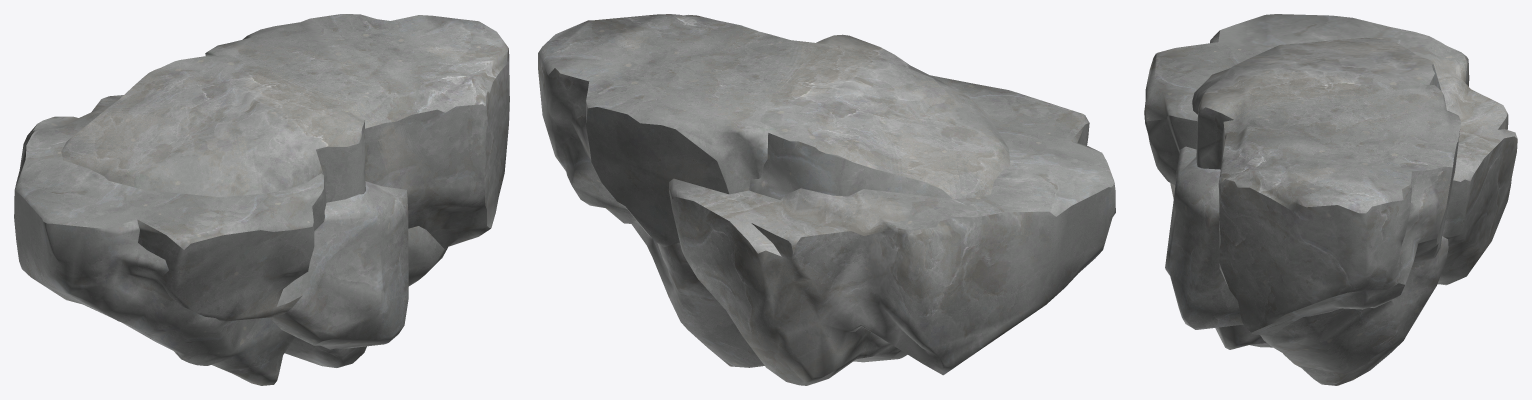
File: SM_Com_Roc_12AS.fbx
3 views of the same model, side by side, from view 1: azimuth 30°, elevation 25°; view 2: azimuth 150°, elevation 25°; view 3: azimuth 270°, elevation 25° (orthographic). The views are drawn at different scales.
Parts seen in each view (by area): view 1: SM_Com_Roc_12AS.mo; view 2: SM_Com_Roc_12AS.mo; view 3: SM_Com_Roc_12AS.mo.
Part boxes in pixels (<box>): SM_Com_Roc_12AS.mo: <box>14,14,509,385</box>; SM_Com_Roc_12AS.mo: <box>538,14,1115,385</box>; SM_Com_Roc_12AS.mo: <box>1144,14,1517,385</box>.
Size of the model in its own units: 12.46 by 6.56 by 8.3.
